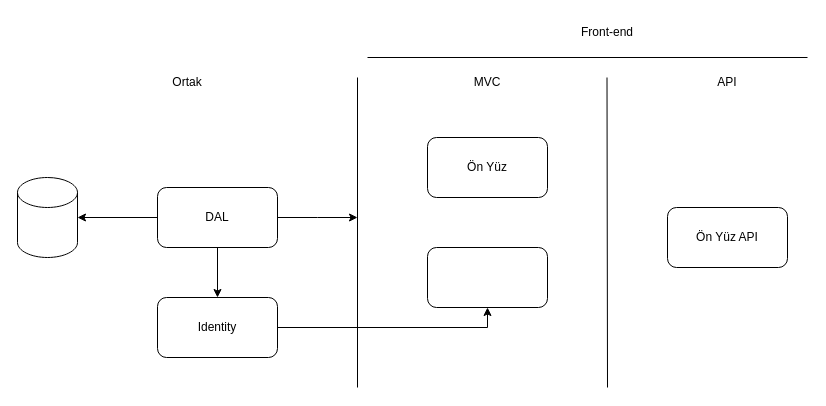
Image size: 826x406. Some labels were removed from this diagram. Each missing label, with the box of its shape:
Admin: (426, 246, 548, 308)
DB: (16, 176, 78, 258)
